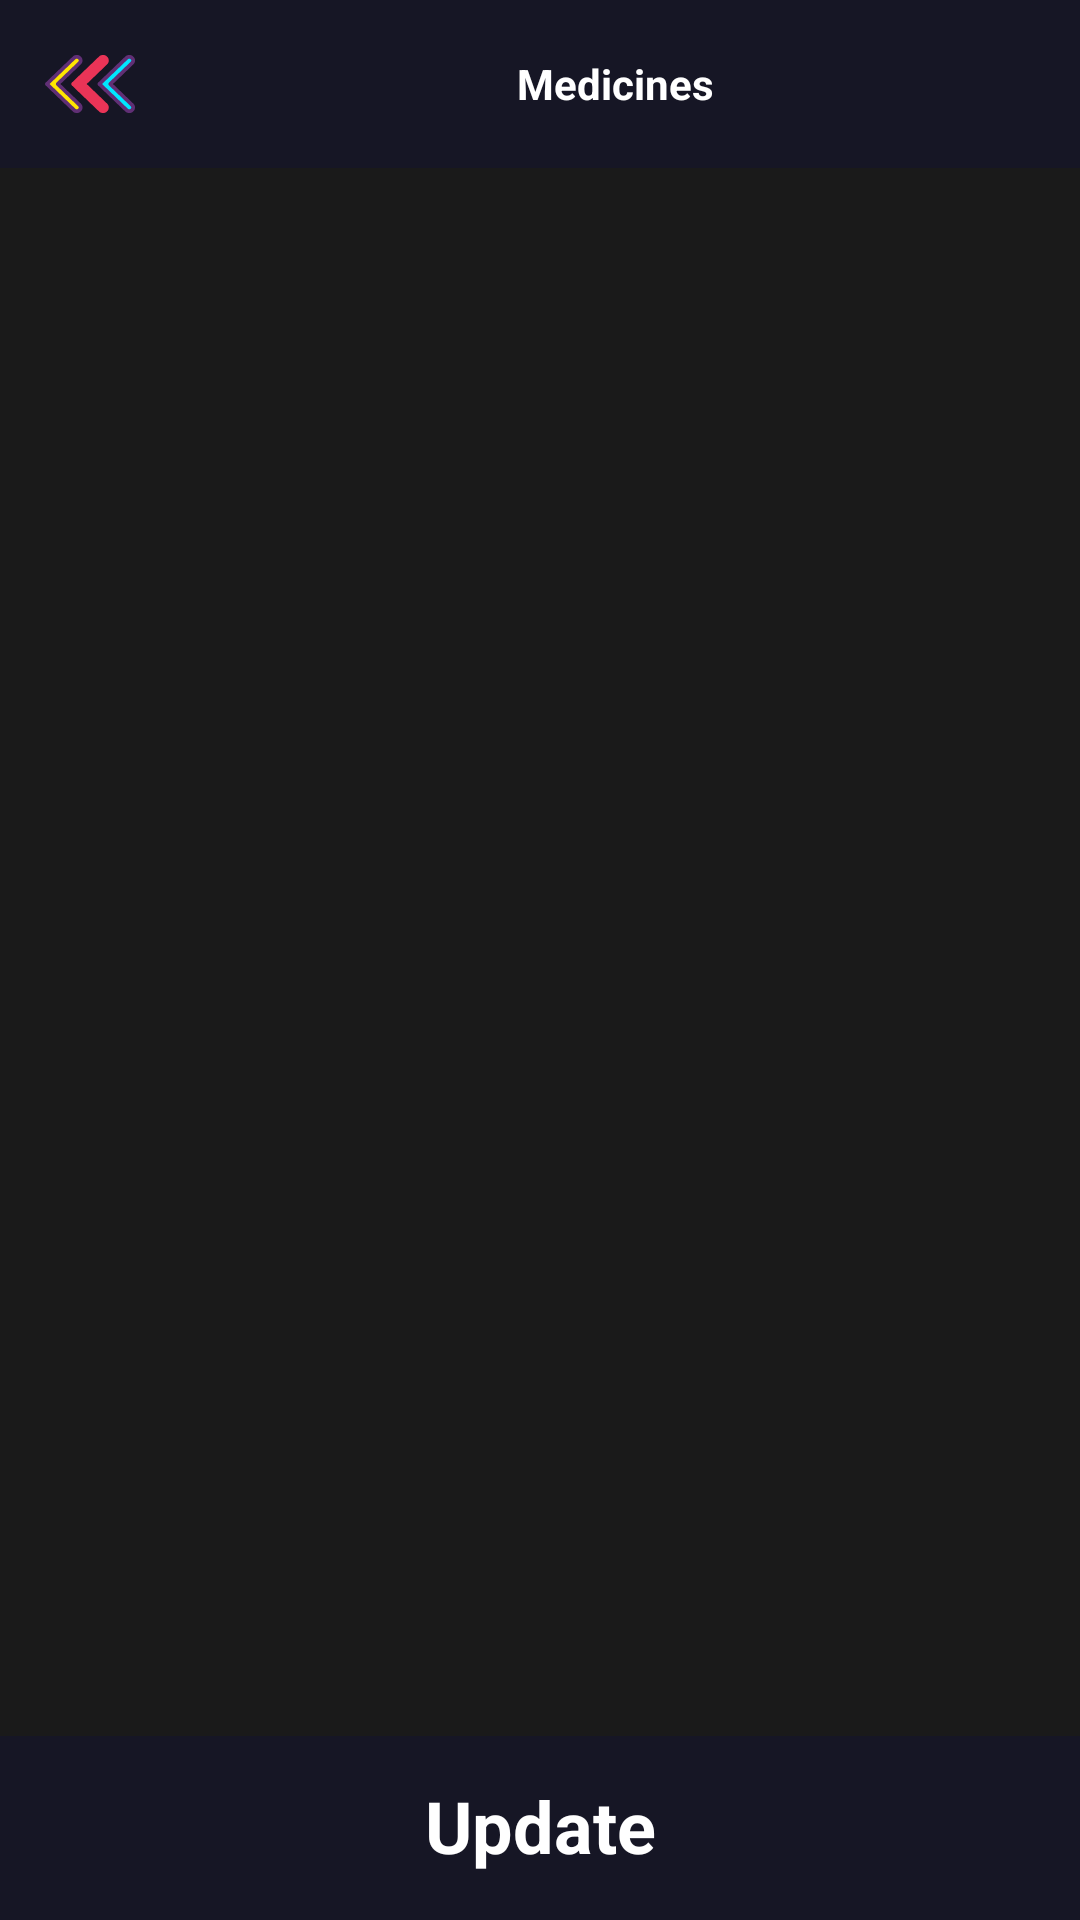

Named icons in this screenshot (1080w x 1920h) and their bounding boxes, (x1, y1, x2, y2):
back: (45, 55, 135, 113)
